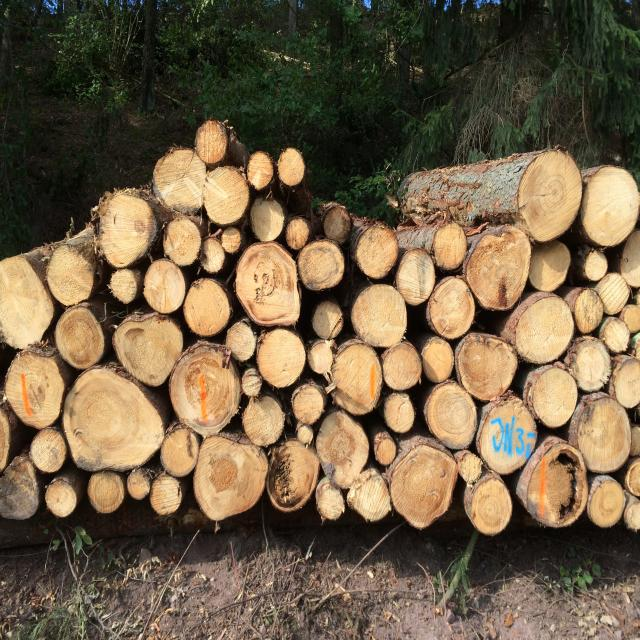wood-log: (61, 365, 162, 471), (170, 342, 243, 434), (190, 435, 266, 522), (388, 440, 457, 530), (522, 153, 585, 244), (232, 243, 300, 326), (462, 234, 532, 313), (3, 347, 69, 428), (0, 255, 55, 349), (112, 313, 182, 386), (478, 394, 540, 474), (97, 190, 161, 266), (571, 393, 630, 473), (523, 458, 588, 530), (583, 170, 640, 249), (510, 296, 575, 365), (456, 334, 518, 403), (317, 408, 372, 484), (330, 341, 383, 413), (268, 437, 320, 509), (424, 382, 477, 449), (352, 285, 408, 348), (151, 150, 206, 212), (55, 306, 107, 369), (425, 280, 476, 342), (44, 247, 96, 306), (258, 328, 308, 388), (533, 363, 579, 425), (184, 279, 232, 338), (204, 170, 252, 228), (350, 224, 400, 276), (0, 457, 41, 519), (472, 474, 514, 534), (145, 259, 190, 313), (300, 242, 348, 291), (242, 394, 286, 447), (396, 252, 438, 307), (570, 337, 612, 391), (348, 470, 390, 522), (532, 242, 574, 293), (381, 340, 422, 390), (163, 218, 204, 267), (161, 427, 199, 478), (588, 476, 625, 527), (30, 430, 68, 476), (250, 196, 287, 242), (89, 471, 125, 514), (293, 384, 329, 426), (196, 120, 228, 166), (424, 337, 456, 382), (574, 288, 604, 335), (152, 475, 186, 516), (383, 392, 416, 434), (600, 271, 632, 314), (226, 322, 258, 363), (615, 357, 640, 409), (312, 300, 344, 340), (315, 478, 345, 520), (47, 477, 79, 516), (620, 231, 640, 290), (248, 151, 276, 191), (602, 316, 632, 353), (110, 268, 140, 304), (277, 149, 304, 187), (201, 238, 227, 274), (376, 432, 398, 468), (459, 450, 483, 483), (584, 252, 608, 284), (0, 404, 11, 473), (129, 470, 150, 500), (625, 459, 640, 498), (621, 303, 640, 333), (626, 500, 640, 533)
